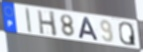8: (59, 14, 76, 38)
9: (99, 19, 115, 43)
A: (78, 16, 100, 42)
H: (36, 10, 58, 38)
I: (25, 8, 33, 35)
Q: (118, 21, 138, 47)
